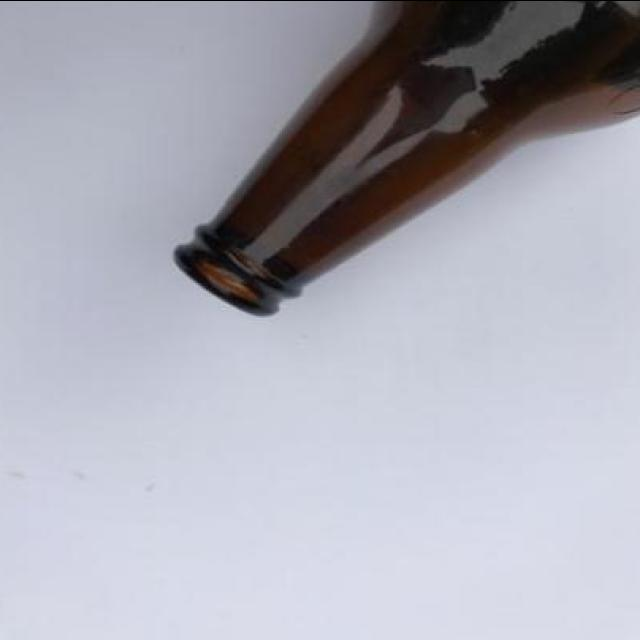kaca: (171, 0, 640, 315)
